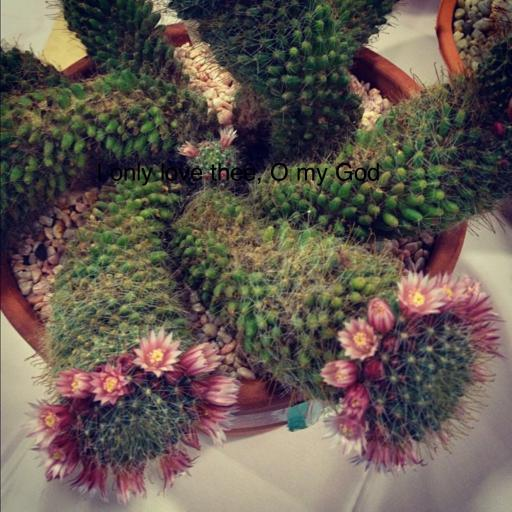Helvetica: (96, 162, 380, 186)
